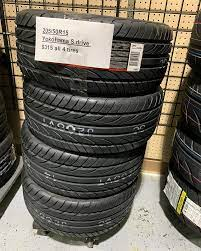tire: (15, 9, 173, 94), (22, 81, 163, 154), (21, 122, 145, 198), (22, 174, 134, 242)
